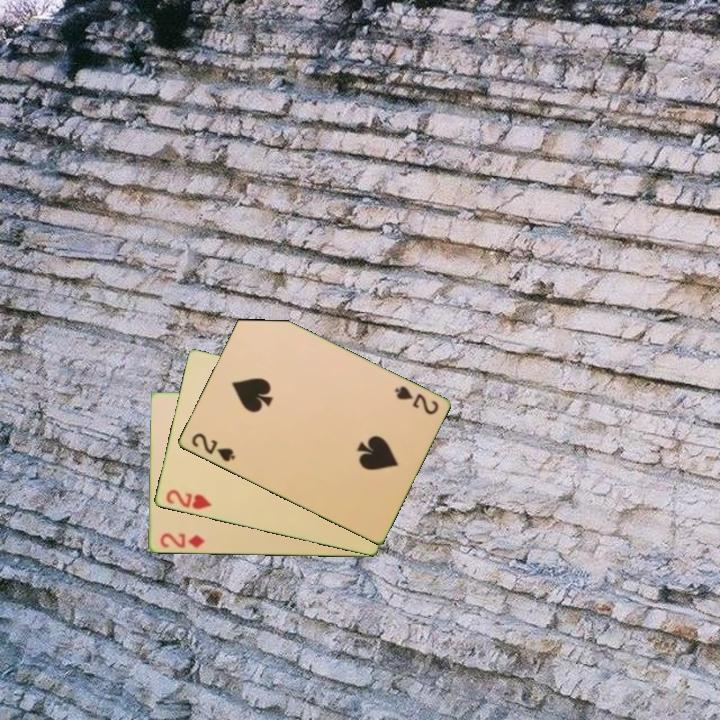2d: (156, 530, 207, 551)
2h: (162, 486, 214, 513)
2s: (188, 429, 238, 465), (391, 382, 441, 418)
